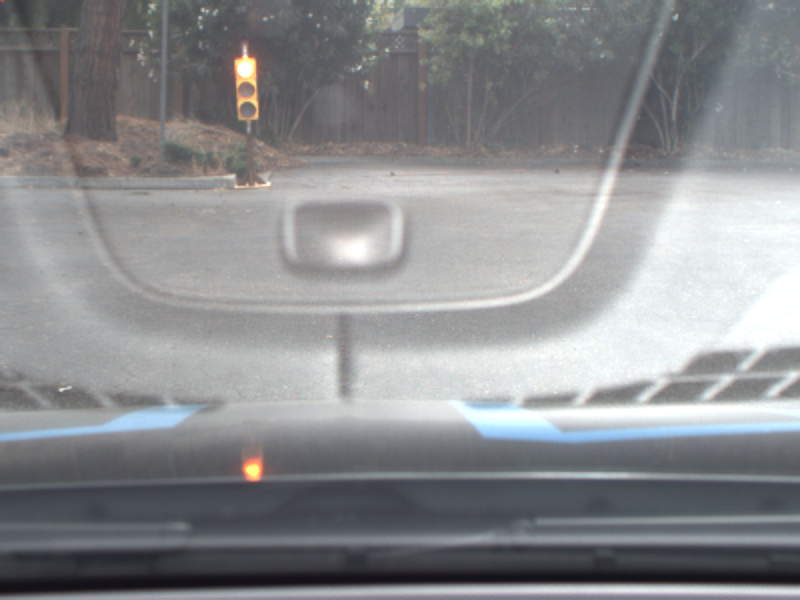red: (233, 56, 261, 121)
